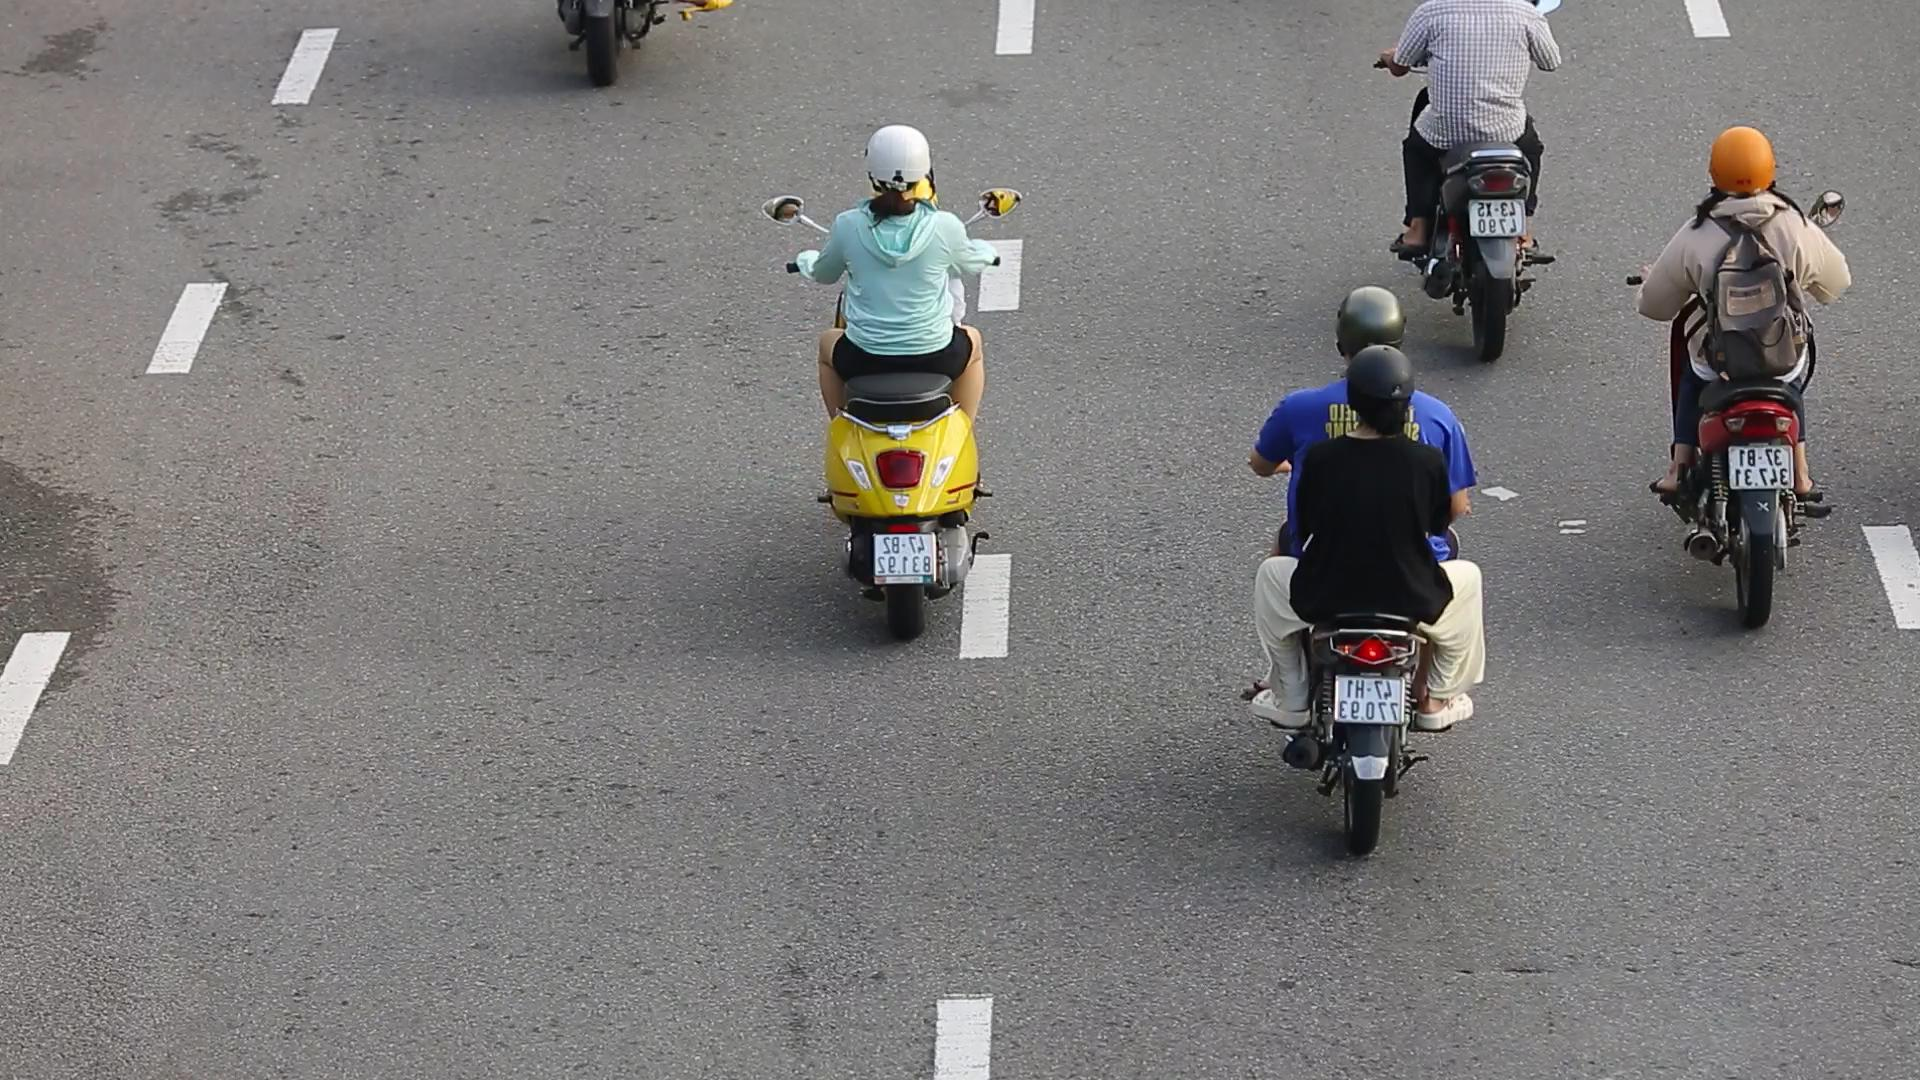motobike: (1212, 282, 1481, 852), (744, 121, 1033, 633), (1642, 124, 1857, 642)
